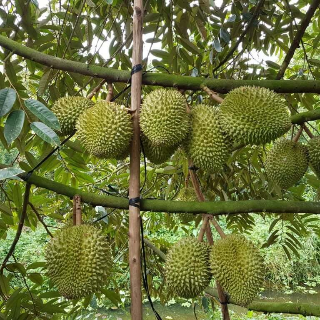sau_rieng: (40, 219, 115, 303), (209, 230, 269, 311), (215, 84, 296, 144), (74, 95, 136, 162), (138, 85, 193, 148), (163, 234, 211, 299)
